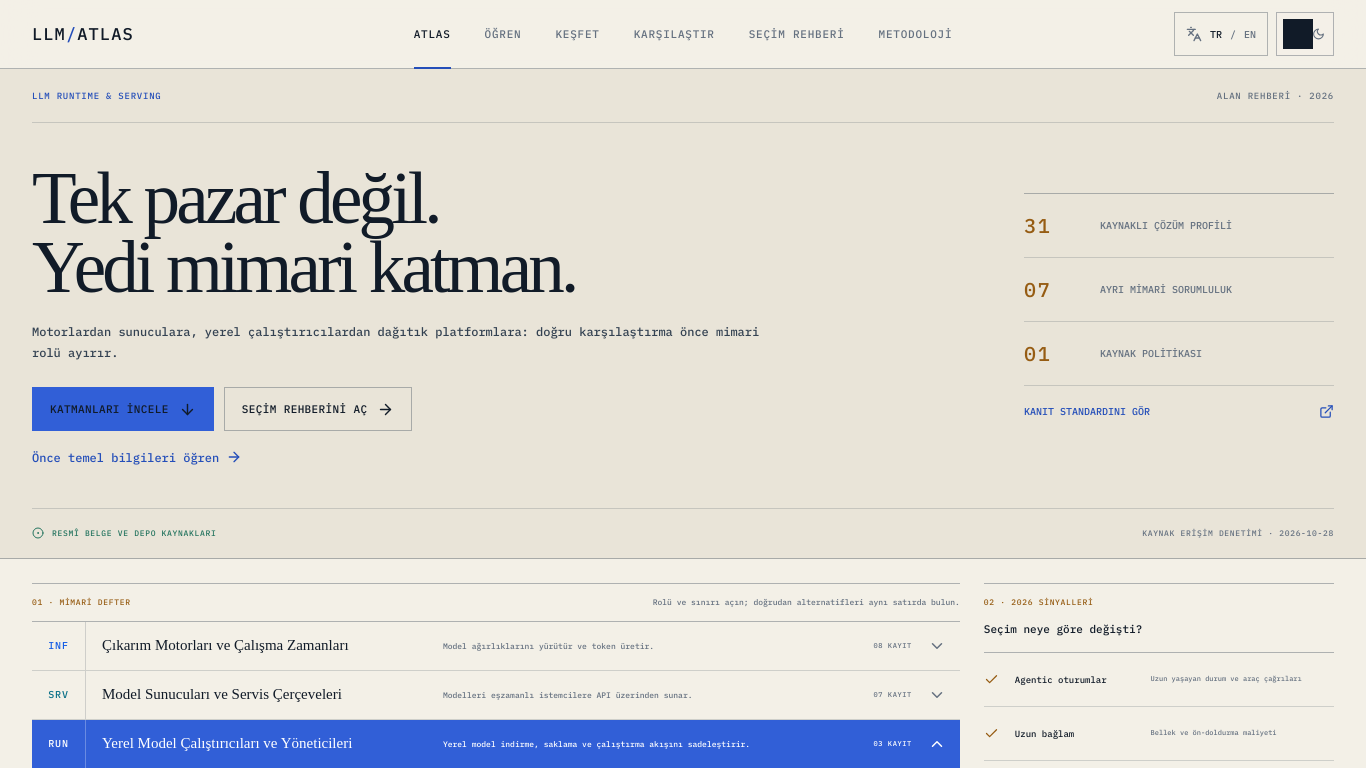
Test: atlas routes › expands an architectural layer and links to its filtered explorer
Expected: the heading "Tek pazar değil.Yedi mimari katman." is shown, 32,158 -> 576,308
Click the button with aria-label "SRV · Model Sunucuları ve Servis Çerçeveleri".
click(496, 695)  # box 32,671 -> 960,719
(page scrolled)
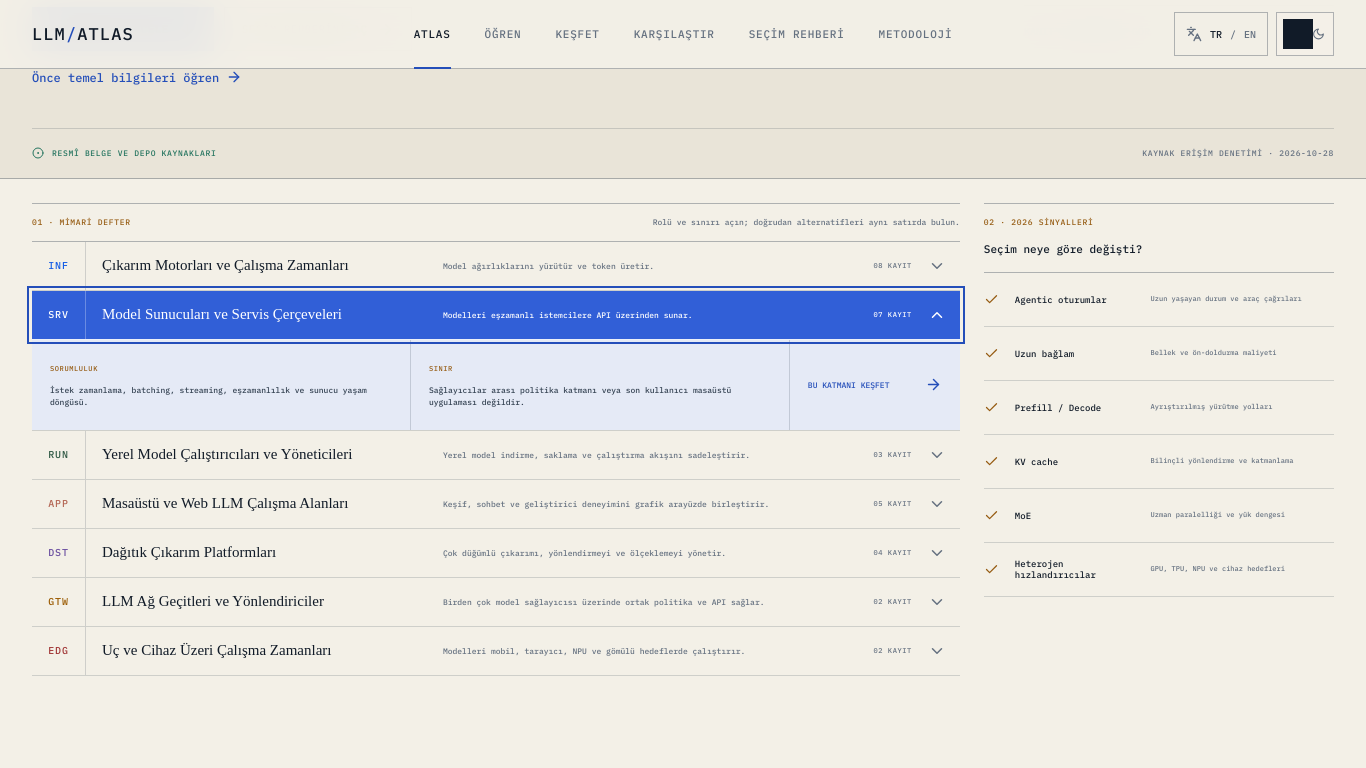
Now the button with aria-label "SRV · Model Sunucuları ve Servis Çerçeveleri" is expanded, box 32,291 -> 960,339
Now the text "İstek zamanlama, batching, streaming" is shown, box 50,385 -> 367,408
